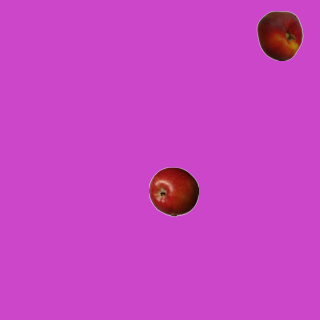Apple Braeburn: (148, 166, 198, 216)
Nectarine Flat: (254, 10, 304, 60)
